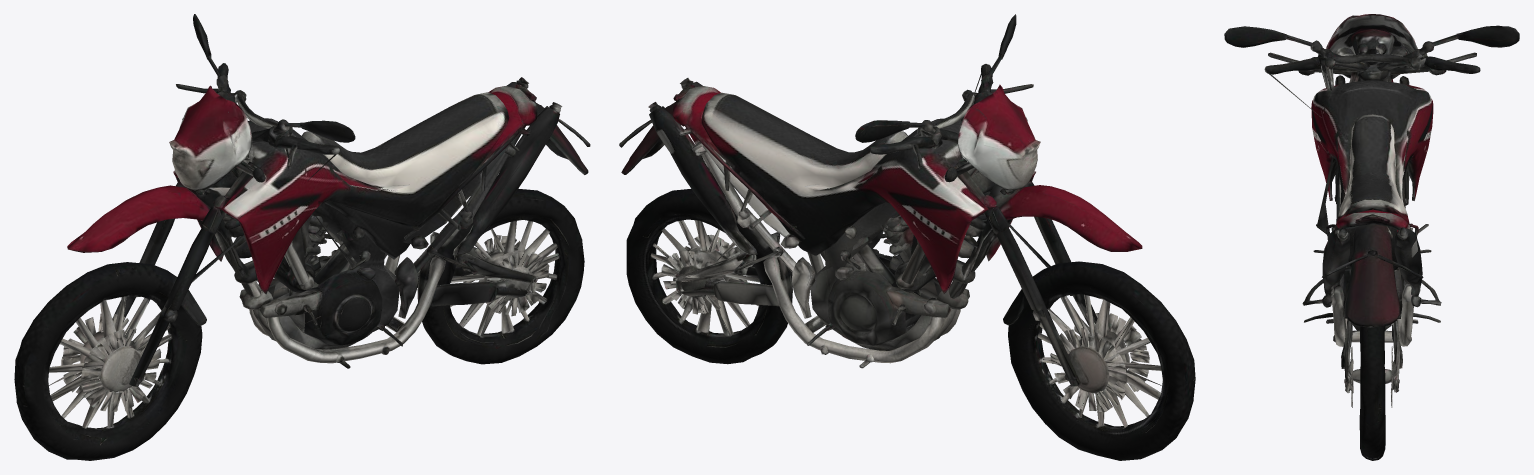
Rendered from moto.glb.
3 renders of one model, left to right at view 1: azimuth 30°, elevation 25°; view 2: azimuth 150°, elevation 25°; view 3: azimuth 270°, elevation 25°, orthographic. The views are drawn at different scales.
Parts seen in each view (by area): view 1: mesh_node; view 2: mesh_node; view 3: mesh_node.
Boxes of the visible parts, x1=… form: mesh_node: x1=14, y1=14, x2=590, y2=460; mesh_node: x1=619, y1=14, x2=1195, y2=460; mesh_node: x1=1224, y1=14, x2=1519, y2=460.
Bounding box in the file's own units: 1.36 × 0.8 × 0.6689.
1 material, 1 textured.
